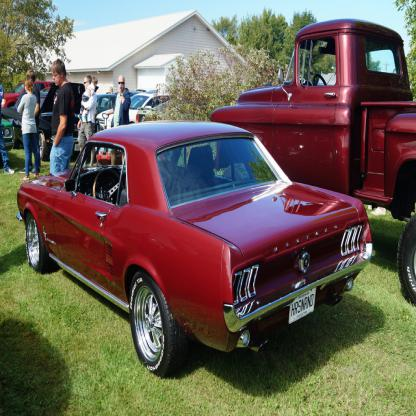Car: (0, 79, 373, 375), (0, 81, 203, 159)
Truck: (209, 19, 416, 306)
